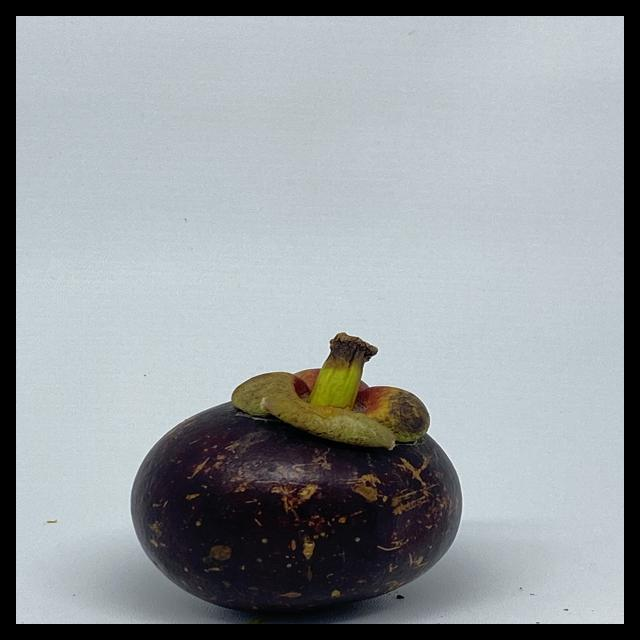mangosteen: (98, 306, 492, 623)
